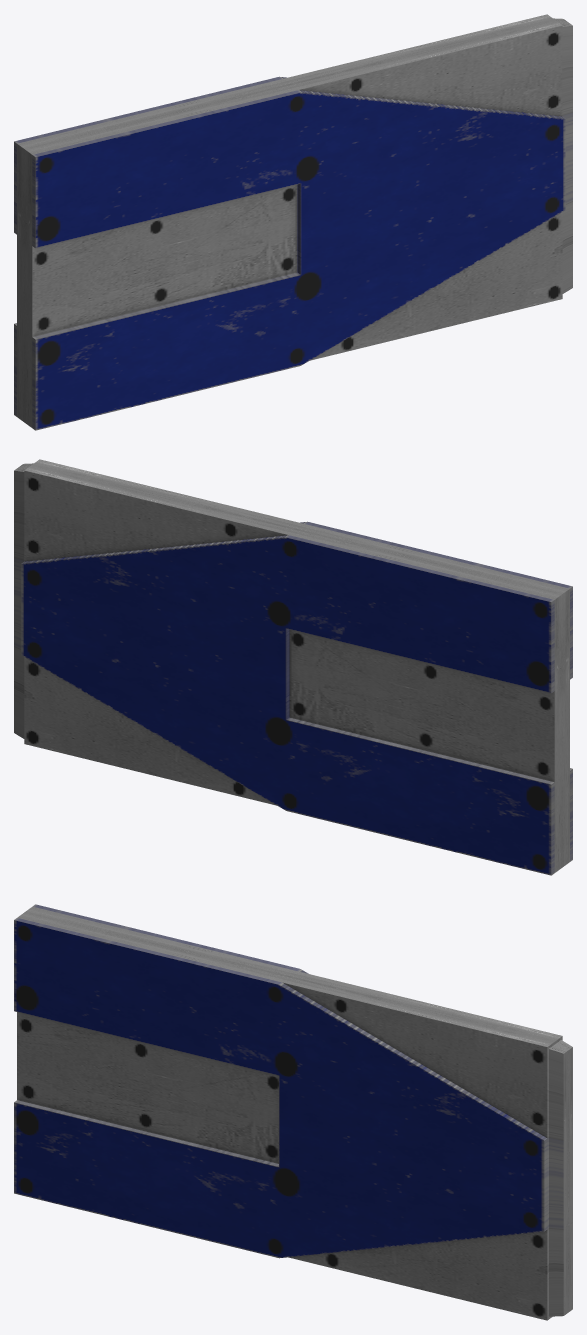
The model's file is Door_L_Lower1.fbx.
3 views of the same model, one above another, from view 1: azimuth 30°, elevation 25°; view 2: azimuth 150°, elevation 25°; view 3: azimuth 330°, elevation 25° (orthographic).
Parts seen in each view (by area): view 1: Door_Large_Lower1; view 2: Door_Large_Lower1; view 3: Door_Large_Lower1.
Boxes of the visible parts, <box> form: Door_Large_Lower1: <box>14,14,572,430</box>; Door_Large_Lower1: <box>14,459,572,875</box>; Door_Large_Lower1: <box>14,904,572,1320</box>.
Size of the model in its own units: 2.04 by 0.9811 by 0.14.
1 material, 1 textured.
